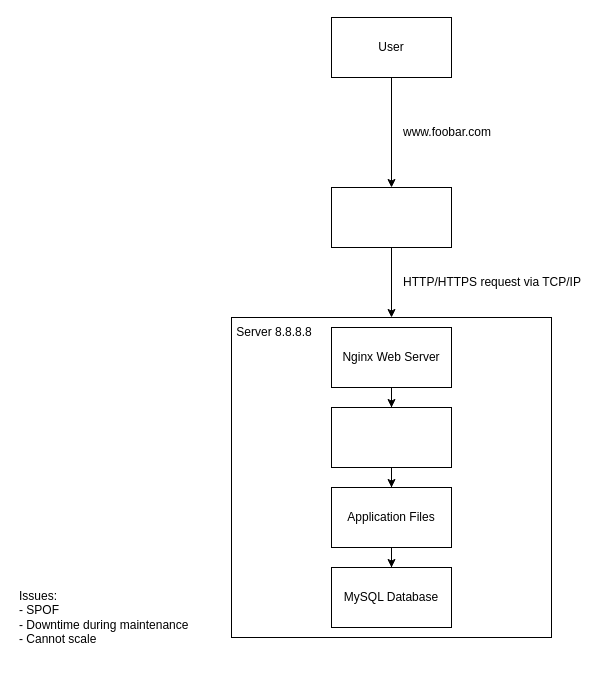
This 604x675 diagram has some shape labels left out. Here are the shapes that lost their labels. From the top down, the centre of each, then its label:
the point at 391,217: DNS www.foobar.com A record -> 8.8.8.8
the point at 391,437: Application Server
